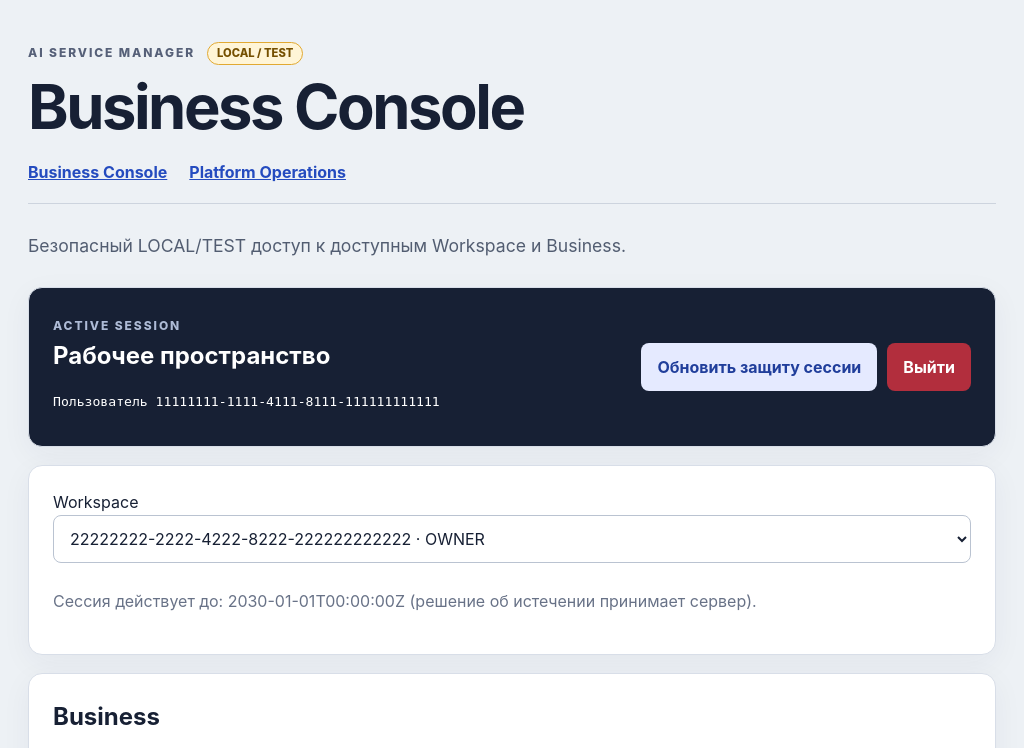
Test case: Business Console auth › keeps the anonymous handoff after a late rotation rejection
The width and height of the screenshot is (1024, 748).
Expected: the text "Пользователь 11111111-1111-4111-8111-111111111111" is shown, [53,394,440,409]
Click the button "Обновить защиту сессии" at (759, 367), box [642,343,877,391]
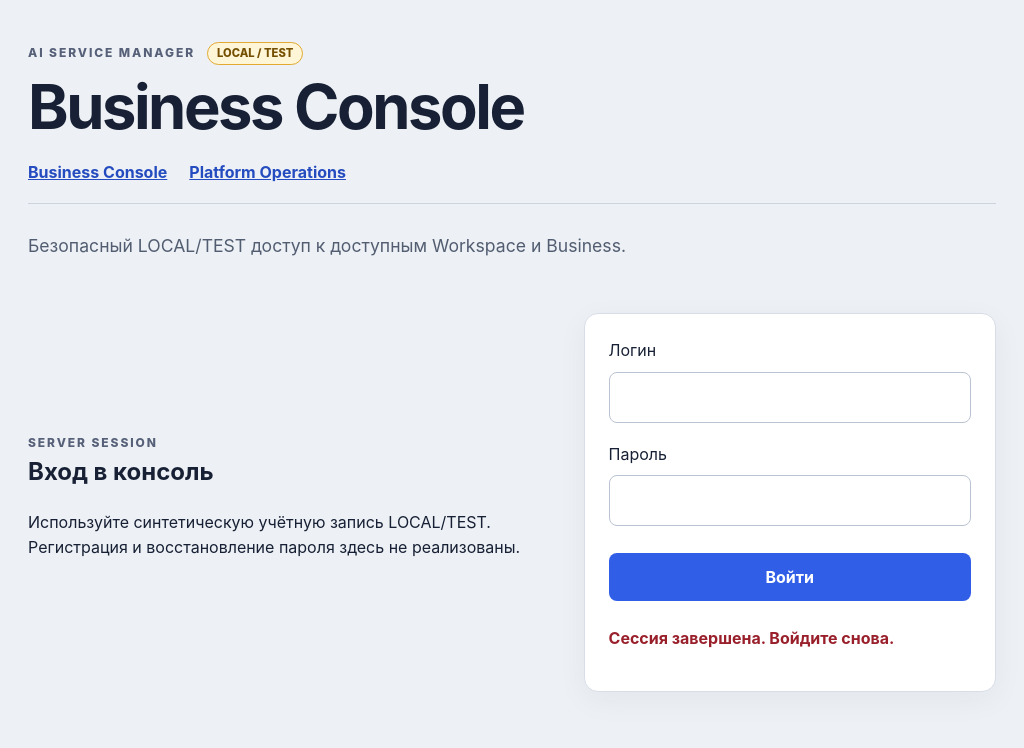
Expected: the text "Сессия завершена. Войдите снова." is shown, [608,628,894,648]
Expected: the button "Войти" is enabled, [608,553,971,601]
